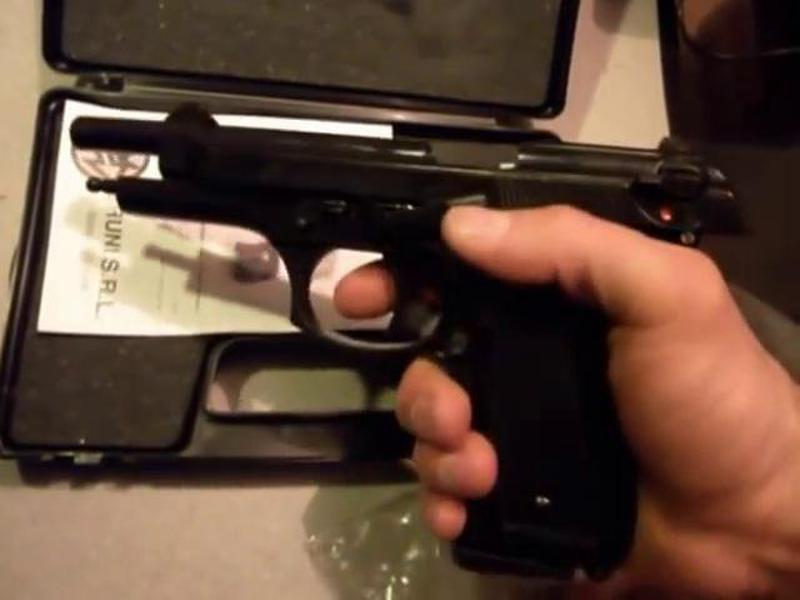Pistola: (67, 63, 748, 597)
